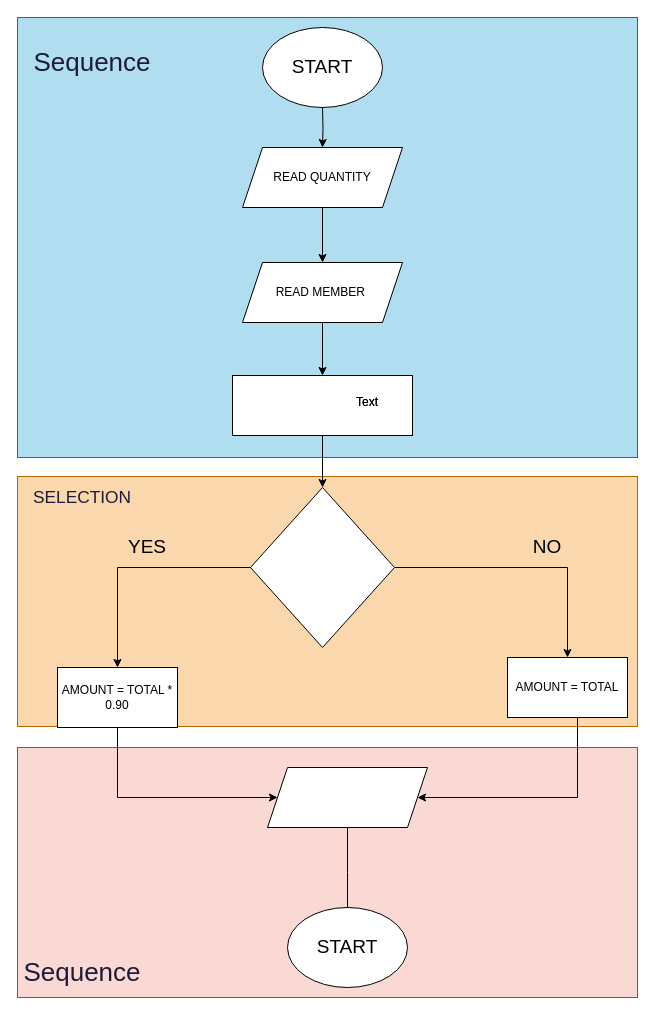
The diagram is 655 pixels wide and 1025 high, and some of its shapes have lost their labels. The box of each missing label's shape, as (x1, y1, x2, y2) in pixels:
DISPLAY AMOUNT: (266, 766, 428, 828)
member = Y?: (250, 486, 394, 648)
TOTAL = QUANTITY * 4.50: (232, 374, 412, 436)
